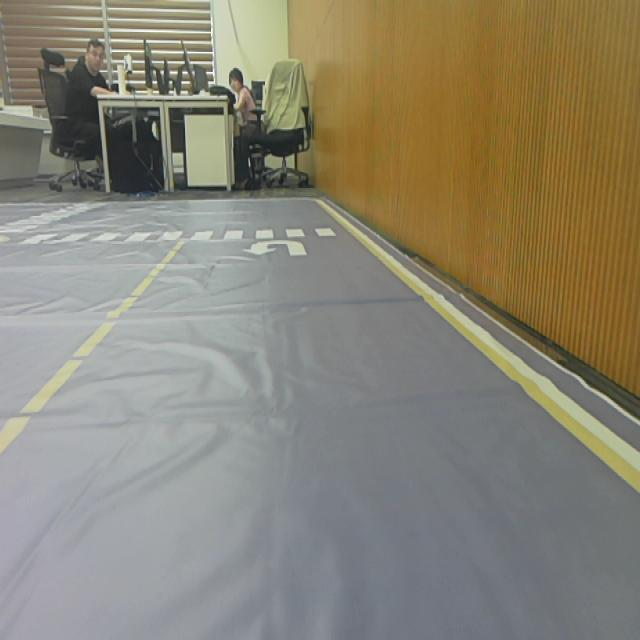left_lane: (0, 240, 183, 454)
right_lane: (318, 204, 640, 494)
